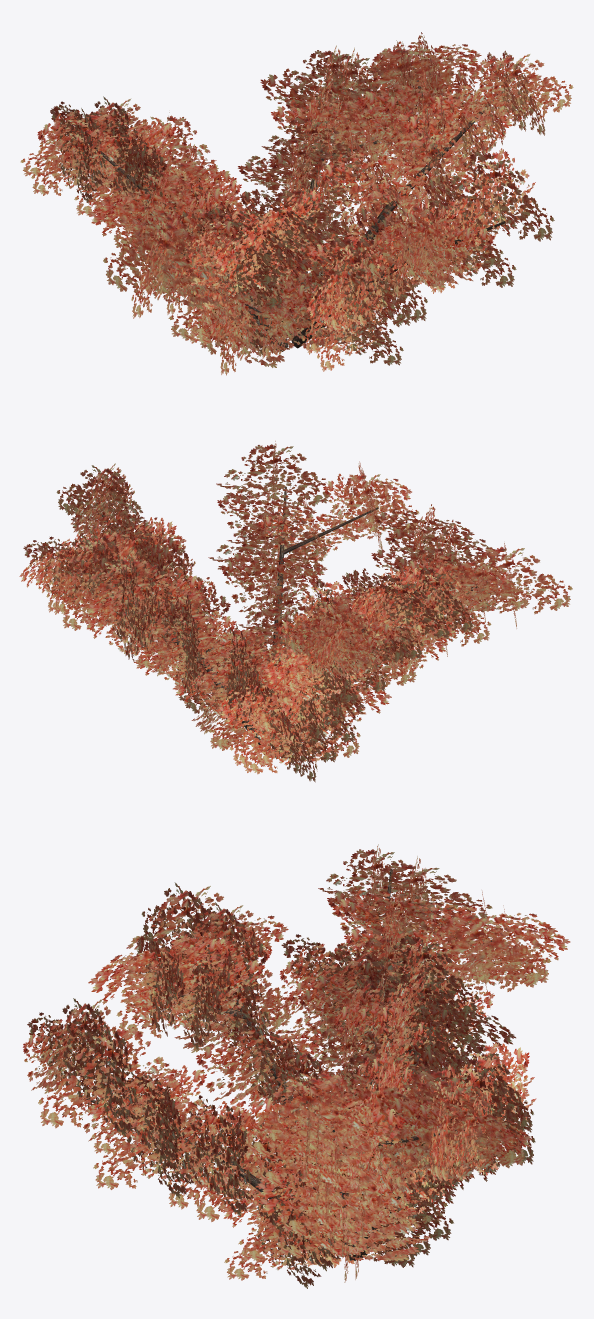
Rendered from bush_3d_02_copper_lod0.glb.
The picture shows the model from 3 angles, top to bottom: view 1: azimuth 30°, elevation 25°; view 2: azimuth 150°, elevation 25°; view 3: azimuth 270°, elevation 25°; orthographic projection. The views are drawn at different scales.
Visible parts, largest first — view 1: foliage_cards, wood_geometry; view 2: foliage_cards, wood_geometry; view 3: foliage_cards, wood_geometry.
Boxes of the visible parts, x1,y1,x2,y2 form: foliage_cards: [20, 32, 573, 375]; wood_geometry: [87, 68, 505, 351]; foliage_cards: [19, 441, 572, 782]; wood_geometry: [69, 486, 477, 749]; foliage_cards: [23, 844, 570, 1288]; wood_geometry: [78, 869, 491, 1260].
Bounding box in the file's own units: 3.1 × 1.49 × 2.51.
Materials: 2 (2 with a texture image).
